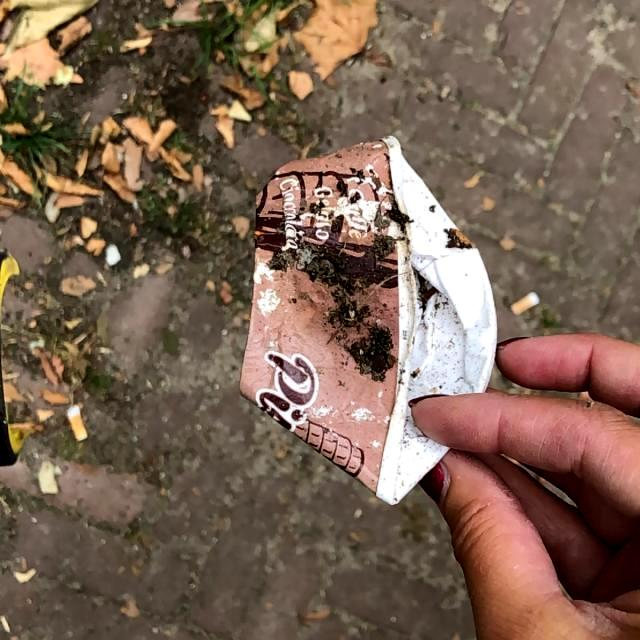Paper: (233, 132, 499, 508)
